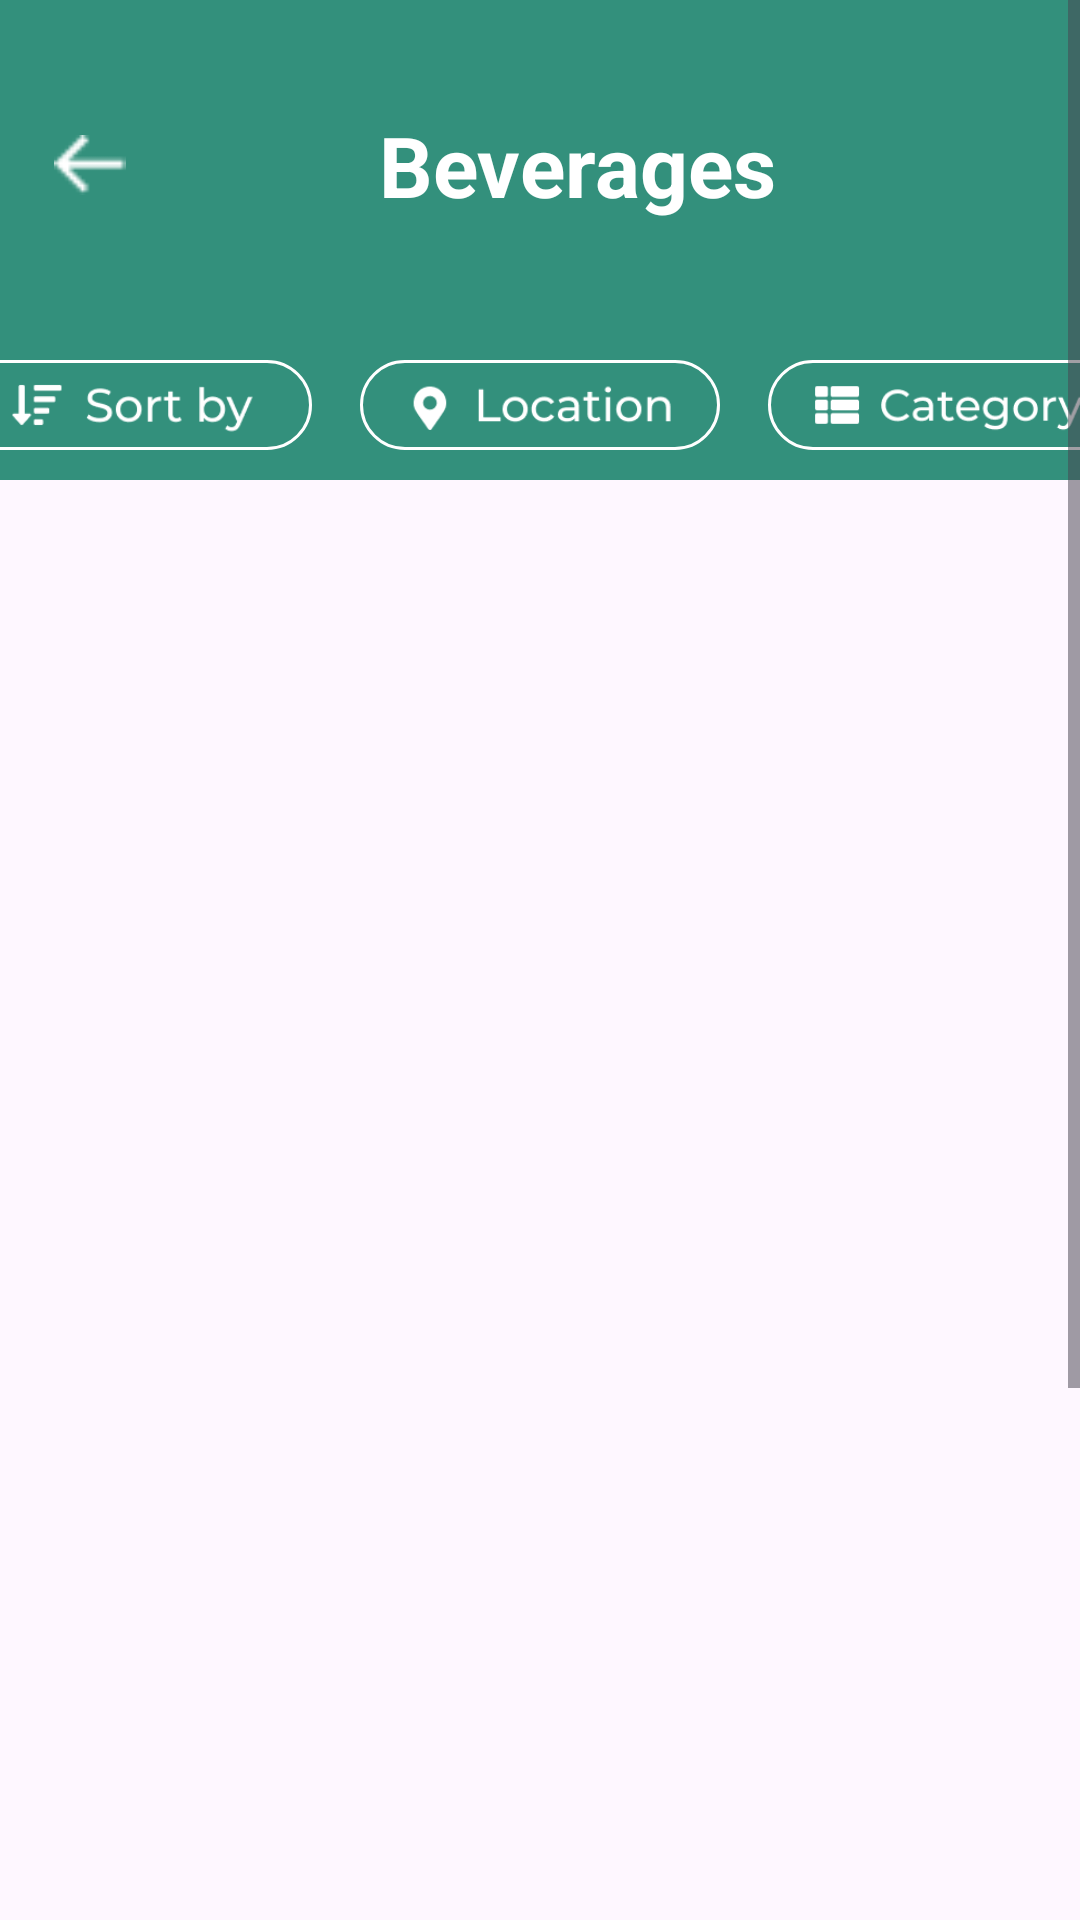

Screen size 1080×1920. Icon name, then its box in pixels as (x1, y1, x2, y2):
back: (54, 135, 126, 193)
